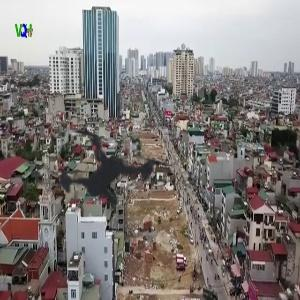drone: (14, 76, 201, 263)
